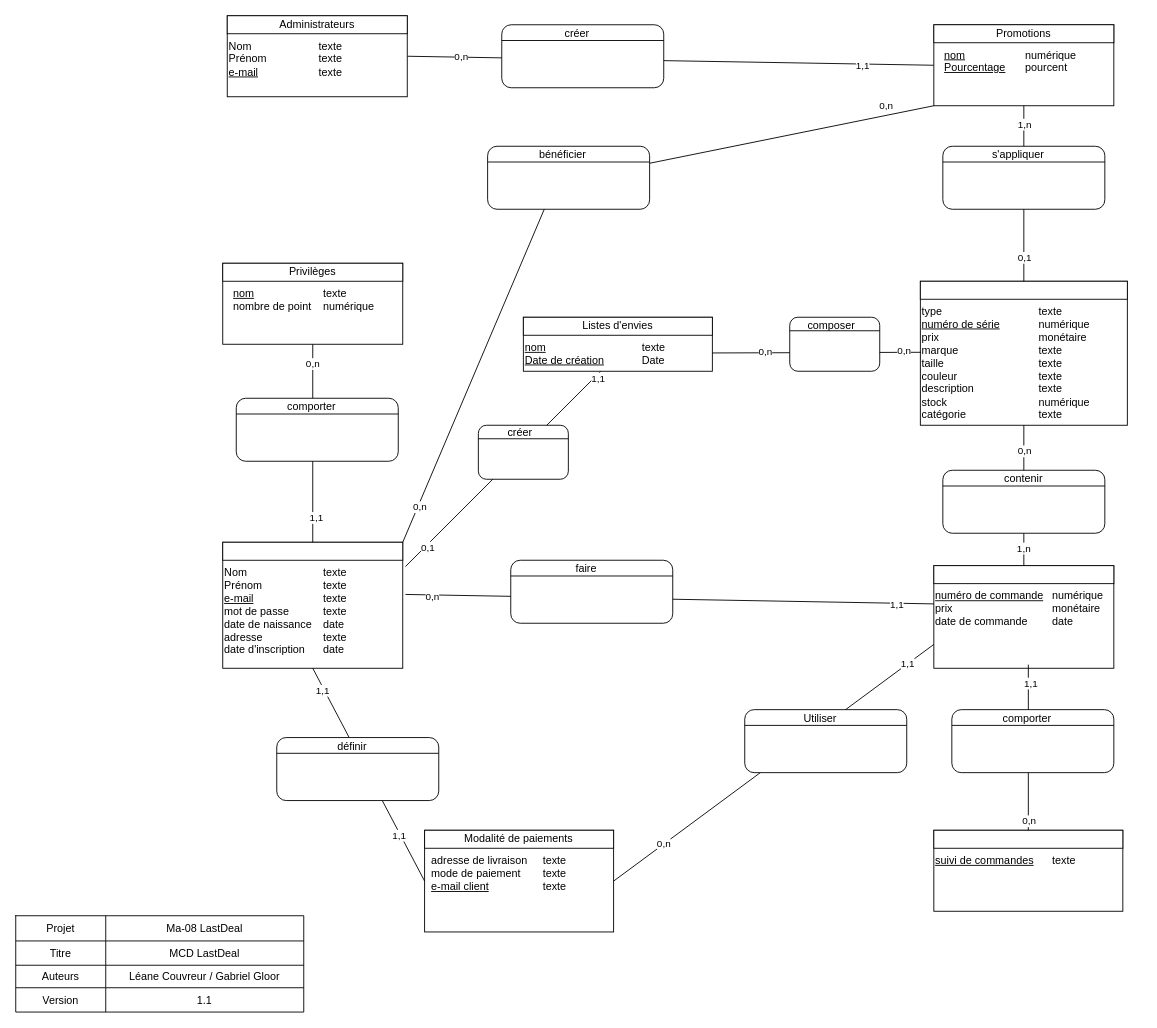
Some shapes in this 1157 by 1028 pixel diagram are drawn without their labels. The shapes that lost their labels are listed below. From the top down, each one's centre as x and y in pixels, then its label:
[1023,289]: Articles
[312,550]: clients
[1023,574]: Commandes
[1028,838]: Status commandes
